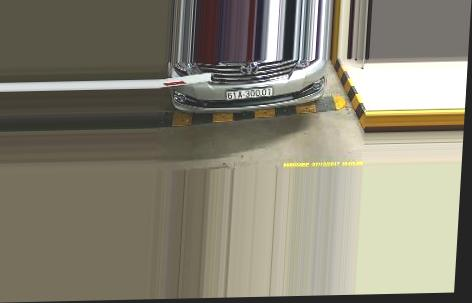License_Plate: (224, 86, 277, 102)
